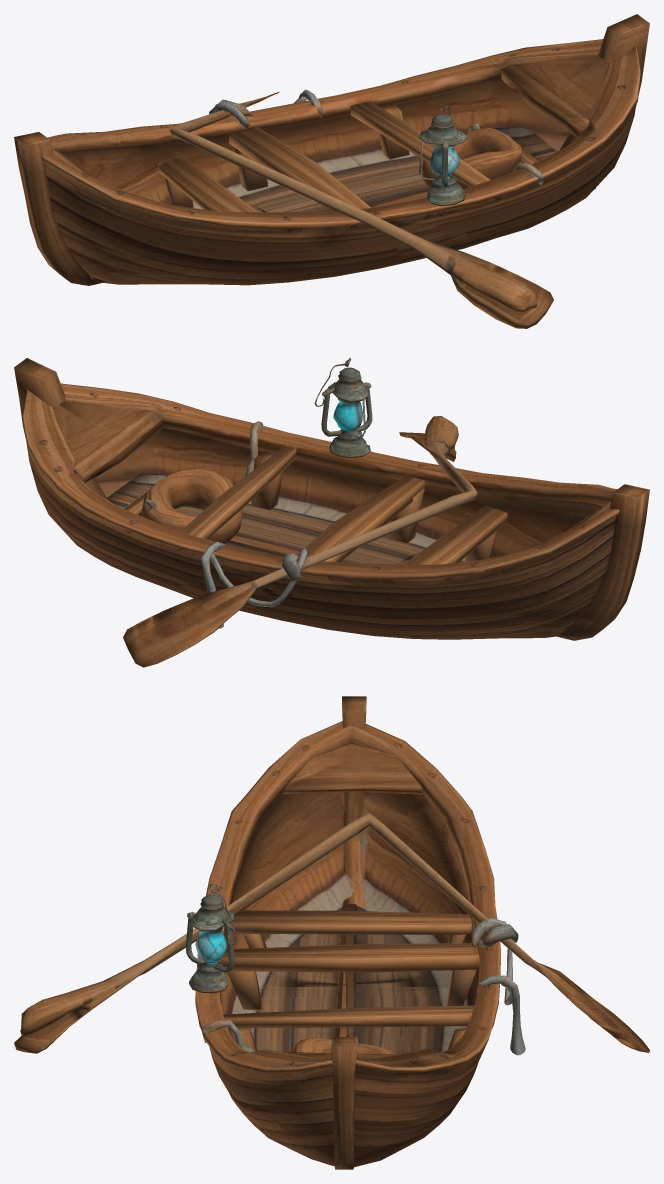
File: boat_row.glb
3 renders of one model, top to bottom at view 1: azimuth 30°, elevation 25°; view 2: azimuth 150°, elevation 25°; view 3: azimuth 270°, elevation 25°, orthographic. The views are drawn at different scales.
Bounding box in the file's own units: 0.957 × 0.2358 × 0.7949.
1 material, 1 textured.
